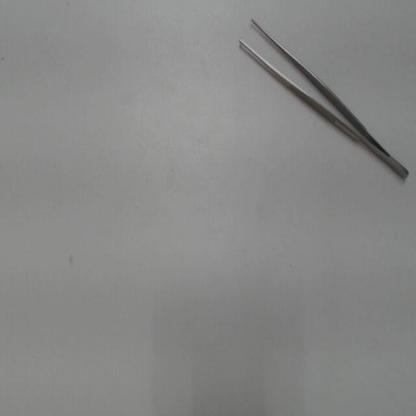Gillies Toothed Dissector: (235, 5, 412, 186)
